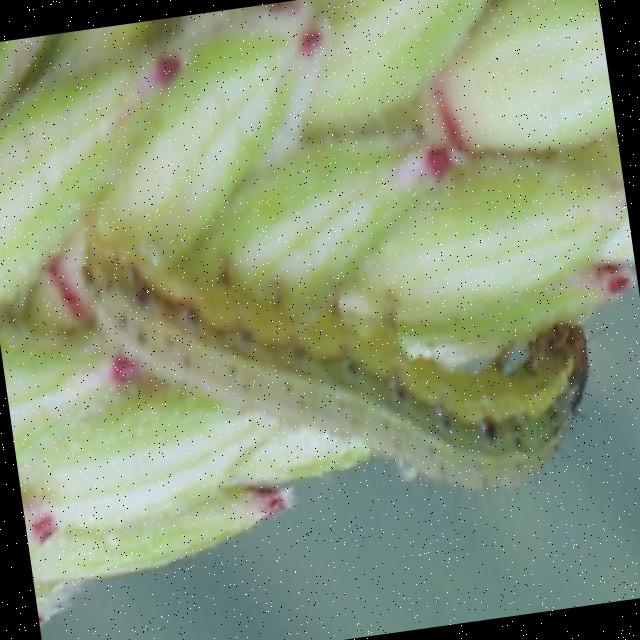worm: (1, 1, 640, 627), (76, 183, 608, 550)
